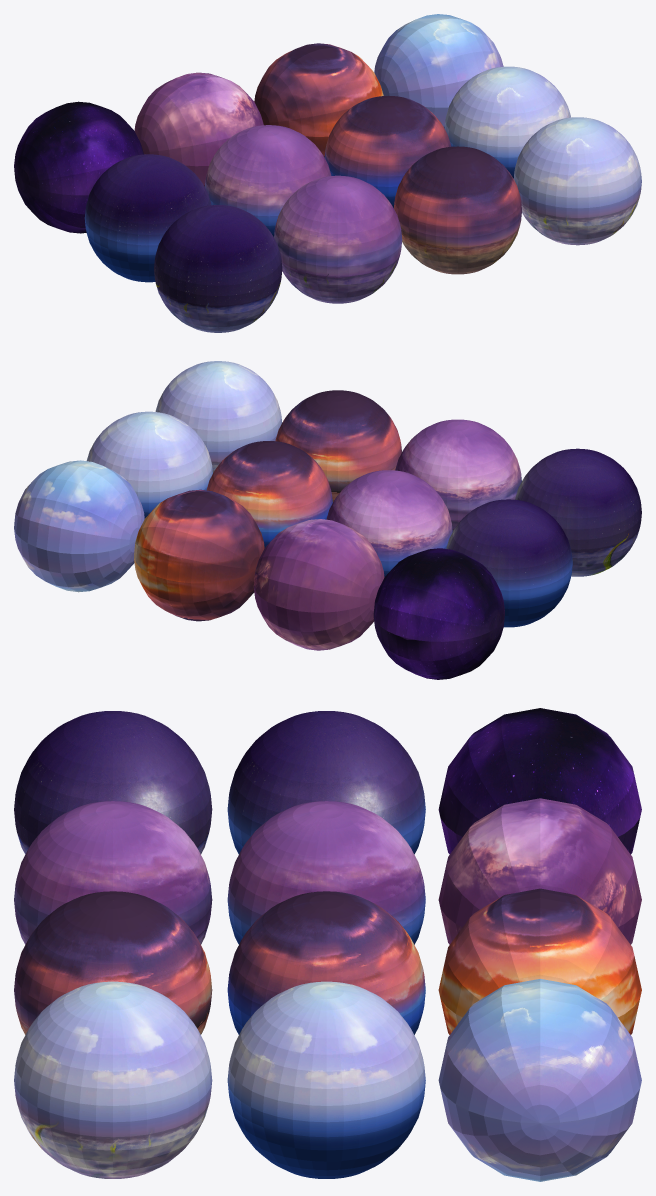
Rendered from GorillaTagNWRZSkyBoxes.fbx.
The picture shows the model from 3 angles, top to bottom: view 1: azimuth 30°, elevation 25°; view 2: azimuth 150°, elevation 25°; view 3: azimuth 270°, elevation 25°; orthographic projection. The views are drawn at different scales.
Parts seen in each view (by area): view 1: SkyBox_Beach__7_, SkyBox_Beach__5_, SkyBox_Beach__6_, SkyBox_Beach__4_, SkyBox_Beach__3_, skysphere__7_, skysphere, skysphere__2_, skysphere__1_, SkyBox_Beach, SkyBox_Beach__1_, SkyBox_Beach__2_ (+1 smaller); view 2: SkyBox_Beach__7_, SkyBox_Beach__3_, skysphere__7_, skysphere__1_, skysphere__2_, skysphere, SkyBox_Beach__5_, SkyBox_Beach__6_, SkyBox_Beach__4_, SkyBox_Beach, SkyBox_Beach__1_, SkyBox_Beach__2_ (+4 smaller); view 3: SkyBox_Beach, SkyBox_Beach__4_, skysphere, SkyBox_Beach__2_, SkyBox_Beach__3_, SkyBox_Beach__5_, SkyBox_Beach__1_, SkyBox_Beach__7_, SkyBox_Beach__6_, skysphere__1_, skysphere__2_, skysphere__7_ (+1 smaller).
Part boxes in pixels (x1=…): SkyBox_Beach__7_: x1=154, y1=205, x2=282, y2=332; SkyBox_Beach__5_: x1=394, y1=146, x2=521, y2=274; SkyBox_Beach__6_: x1=274, y1=175, x2=402, y2=303; SkyBox_Beach__4_: x1=513, y1=117, x2=641, y2=245; SkyBox_Beach__3_: x1=84, y1=154, x2=211, y2=282; skysphere__7_: x1=14, y1=101, x2=143, y2=195; skysphere: x1=374, y1=14, x2=503, y2=107; skysphere__2_: x1=134, y1=72, x2=263, y2=166; skysphere__1_: x1=254, y1=43, x2=383, y2=136; SkyBox_Beach: x1=444, y1=66, x2=570, y2=178; SkyBox_Beach__1_: x1=324, y1=95, x2=451, y2=207; SkyBox_Beach__2_: x1=204, y1=125, x2=331, y2=236; SkyBox_Beach__7_: x1=515, y1=448, x2=641, y2=576; SkyBox_Beach__3_: x1=446, y1=499, x2=572, y2=627; skysphere__7_: x1=373, y1=548, x2=504, y2=641; skysphere__1_: x1=134, y1=489, x2=264, y2=583; skysphere__2_: x1=253, y1=519, x2=384, y2=612; skysphere: x1=14, y1=460, x2=144, y2=553; SkyBox_Beach__5_: x1=275, y1=390, x2=401, y2=501; SkyBox_Beach__6_: x1=395, y1=419, x2=521, y2=531; SkyBox_Beach__4_: x1=155, y1=361, x2=282, y2=472; SkyBox_Beach: x1=86, y1=411, x2=212, y2=518; SkyBox_Beach__1_: x1=206, y1=441, x2=332, y2=547; SkyBox_Beach__2_: x1=326, y1=470, x2=452, y2=576; SkyBox_Beach: x1=227, y1=981, x2=425, y2=1178; SkyBox_Beach__4_: x1=14, y1=981, x2=212, y2=1178; skysphere: x1=438, y1=978, x2=641, y2=1123; SkyBox_Beach__2_: x1=227, y1=801, x2=425, y2=944; SkyBox_Beach__3_: x1=227, y1=711, x2=425, y2=854; SkyBox_Beach__5_: x1=14, y1=891, x2=212, y2=1034; SkyBox_Beach__1_: x1=227, y1=891, x2=425, y2=1034; SkyBox_Beach__7_: x1=14, y1=711, x2=212, y2=854; SkyBox_Beach__6_: x1=14, y1=801, x2=212, y2=944; skysphere__1_: x1=438, y1=888, x2=641, y2=1017; skysphere__2_: x1=438, y1=798, x2=641, y2=927; skysphere__7_: x1=438, y1=708, x2=641, y2=836.
Bounding box in the file's own units: 83000 × 20000 × 61748.
